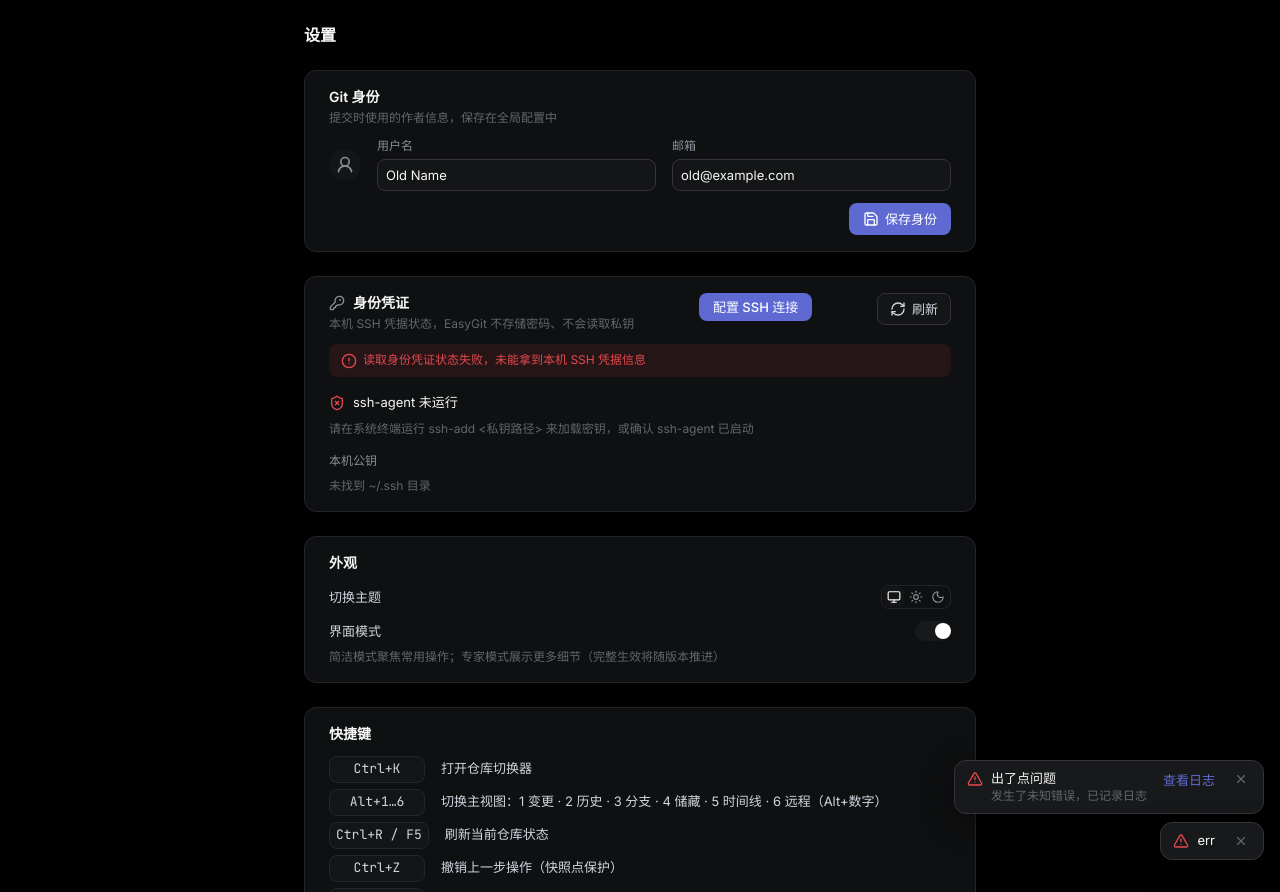
Test: SettingsPage (F-14) › saves both keys with no repository open and toasts success
Replace the text in the field with test id "settings-name" with "张三": (516, 175) [377, 159, 656, 191]
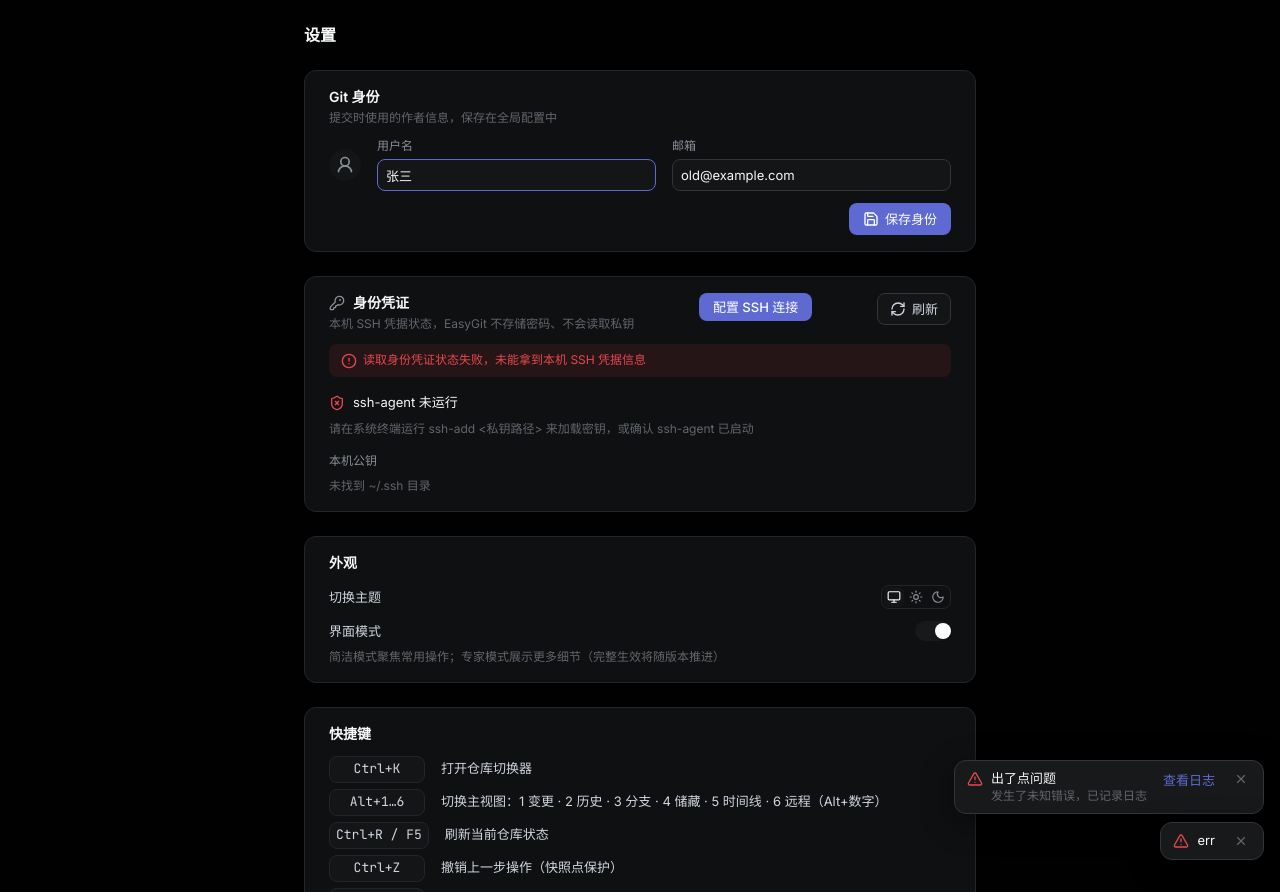
Replace the text in the field with test id "settings-email" with "z@ex.com": (812, 175) [672, 159, 951, 191]
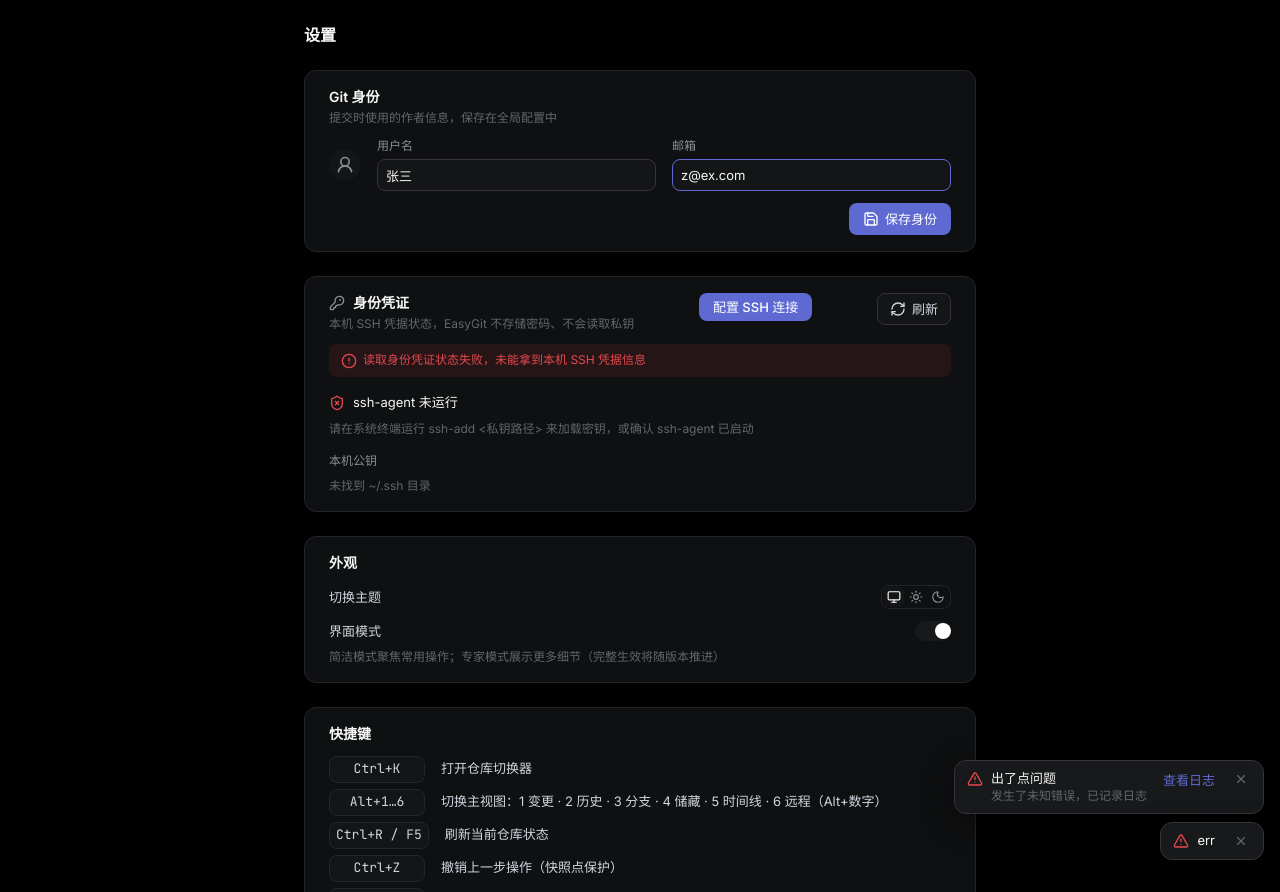
Click the button with test id "settings-save": (900, 219) [849, 203, 951, 235]
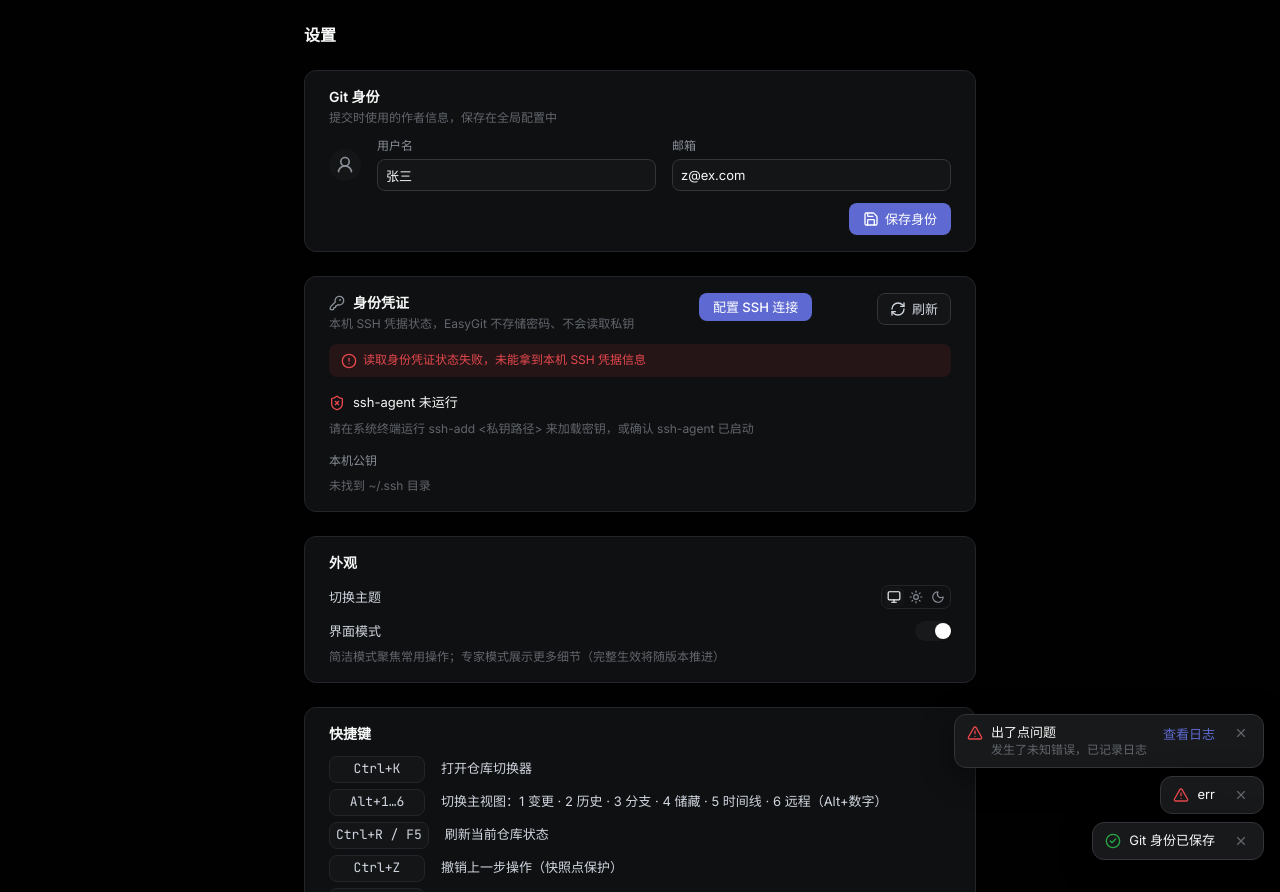
Check: the text "Git 身份已保存" is shown, box [1129, 831, 1215, 850]
